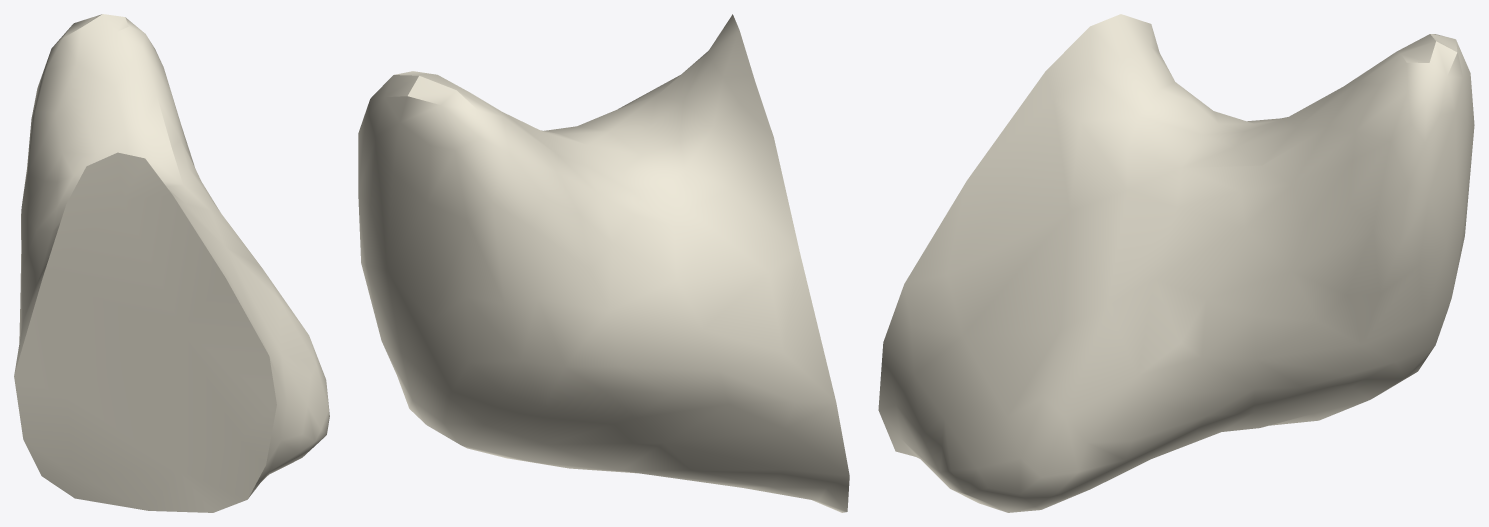
The model's file is fma12117_mm2389.glb.
3 renders of one model, left to right at view 1: azimuth 30°, elevation 25°; view 2: azimuth 150°, elevation 25°; view 3: azimuth 270°, elevation 25°, orthographic. The views are drawn at different scales.
Parts seen in each view (by area): view 1: FMA12117_MM2389; view 2: FMA12117_MM2389; view 3: FMA12117_MM2389.
Boxes of the visible parts, x1,y1,x2,y2 form: FMA12117_MM2389: (14, 14, 329, 512); FMA12117_MM2389: (358, 14, 849, 512); FMA12117_MM2389: (878, 14, 1474, 512).
Size of the model in its own units: 0.00976 by 0.0125 by 0.0141.
